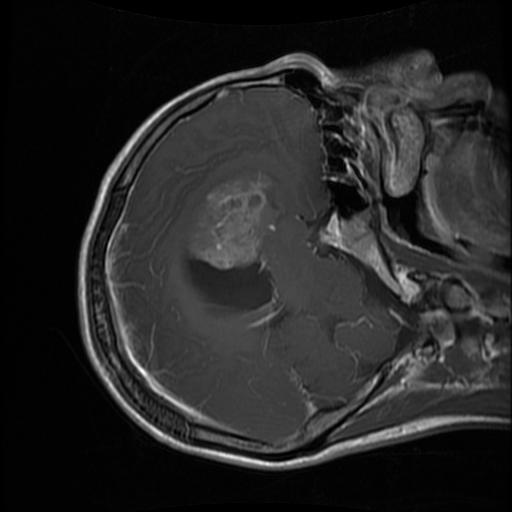glioma: (184, 169, 276, 314)
